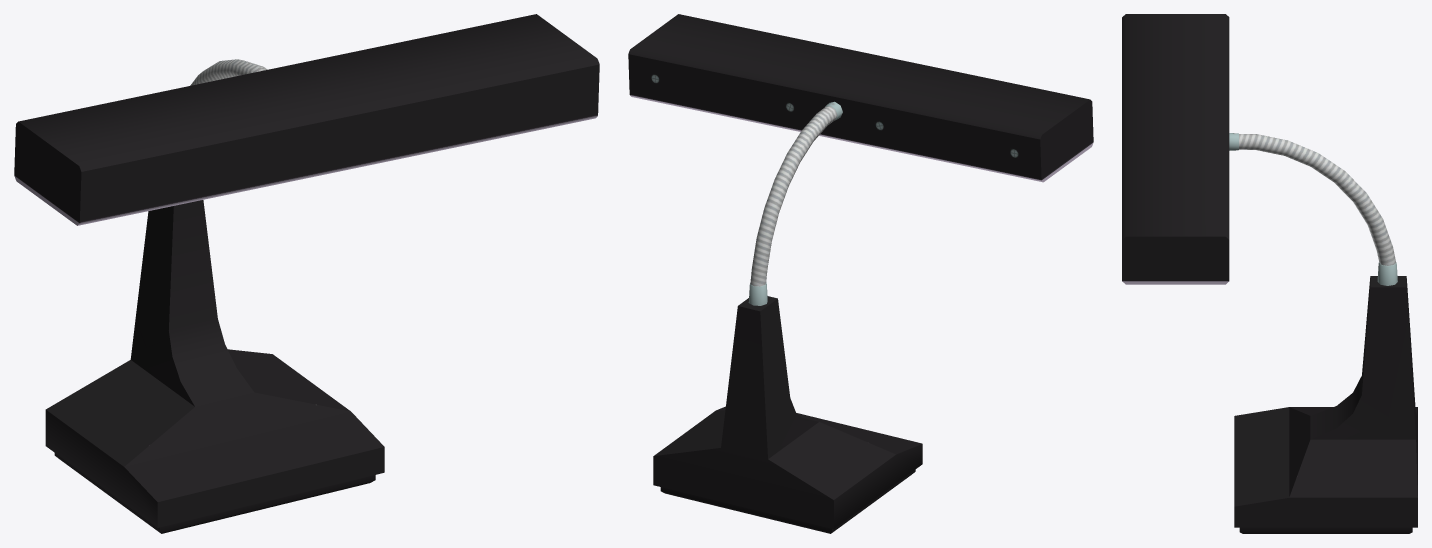
The model's file is FBX_DeskLamp_DeskLamp.fbx.
3 views of the same model, side by side, from view 1: azimuth 30°, elevation 25°; view 2: azimuth 150°, elevation 25°; view 3: azimuth 270°, elevation 25° (orthographic). The views are drawn at different scales.
Visible parts, largest first — view 1: SM_DeskLamp_DeskLamp; view 2: SM_DeskLamp_DeskLamp; view 3: SM_DeskLamp_DeskLamp.
Part boxes in pixels (x1,y1,x2,y2): SM_DeskLamp_DeskLamp: (14,14,599,533); SM_DeskLamp_DeskLamp: (628,14,1093,533); SM_DeskLamp_DeskLamp: (1122,14,1417,533).
Size of the model in its own units: 0.4585 by 0.3854 by 0.2754.
